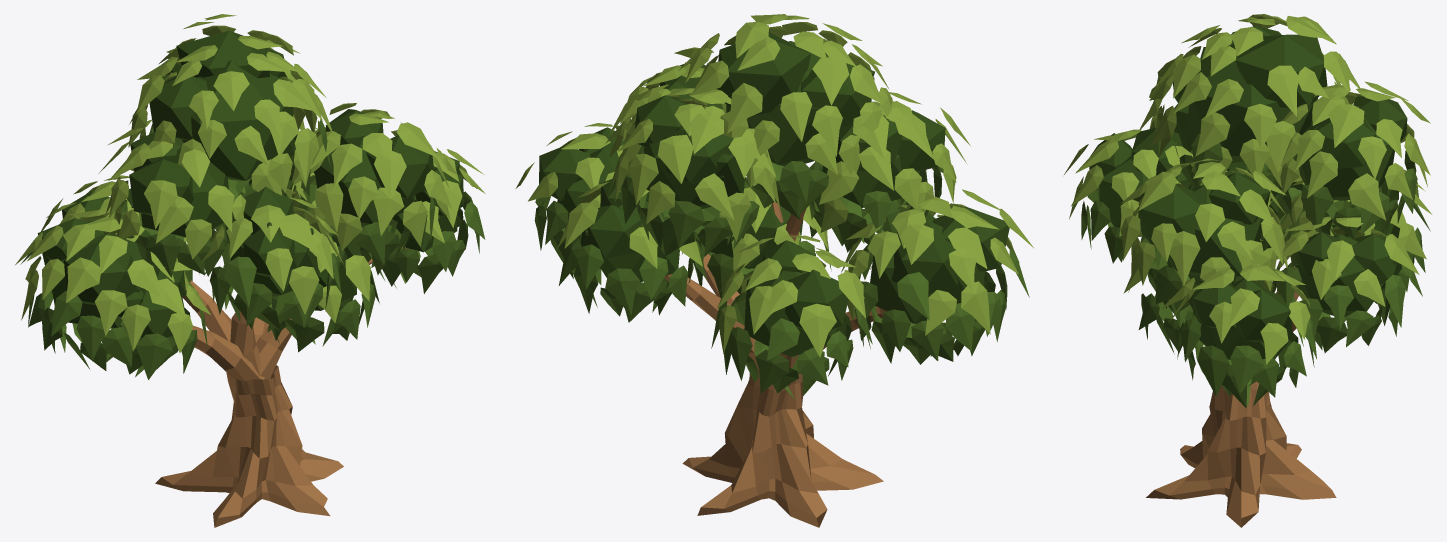
The model's file is tree-standing.glb.
3 renders of one model, left to right at view 1: azimuth 30°, elevation 25°; view 2: azimuth 150°, elevation 25°; view 3: azimuth 270°, elevation 25°, orthographic. The views are drawn at different scales.
Parts seen in each view (by area): view 1: leaves_light, crown_fill, leaves_dark, trunk; view 2: leaves_light, crown_fill, leaves_dark, trunk; view 3: leaves_light, crown_fill, leaves_dark, trunk.
Boxes of the visible parts, x1,y1,x2,y2 form: leaves_light: (15,14,485,353); crown_fill: (37,30,463,340); leaves_dark: (20,119,485,379); trunk: (155,247,406,527); leaves_light: (515,14,1033,357); crown_fill: (539,32,1009,356); leaves_dark: (534,146,1029,399); trunk: (664,202,886,527); leaves_light: (1064,14,1432,364); crown_fill: (1089,26,1407,359); leaves_dark: (1081,120,1430,408); trunk: (1146,266,1336,527).
Bounding box in the file's own units: 6.18 × 5.91 × 4.3.
